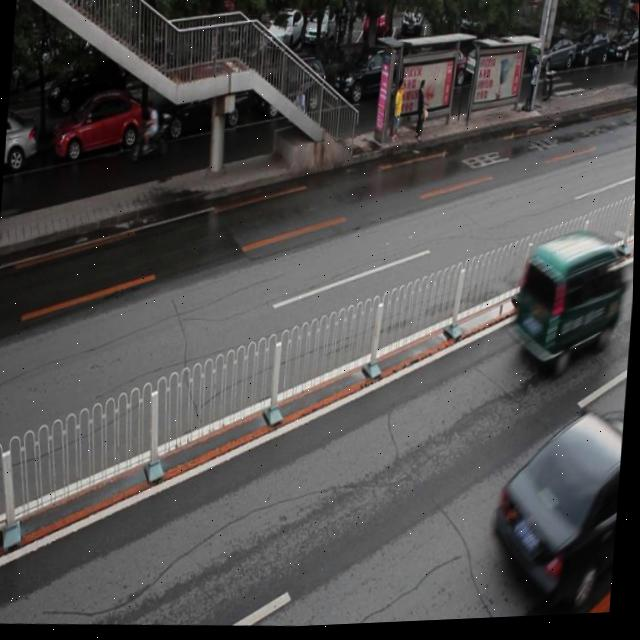car: (488, 409, 626, 616), (53, 87, 146, 163), (154, 78, 250, 142), (248, 62, 329, 130), (331, 52, 410, 116), (4, 107, 43, 176)
truck: (512, 230, 627, 383)
